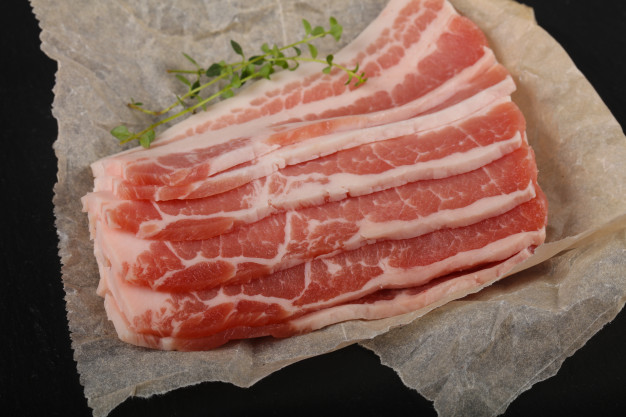bacon: (65, 65, 558, 335)
